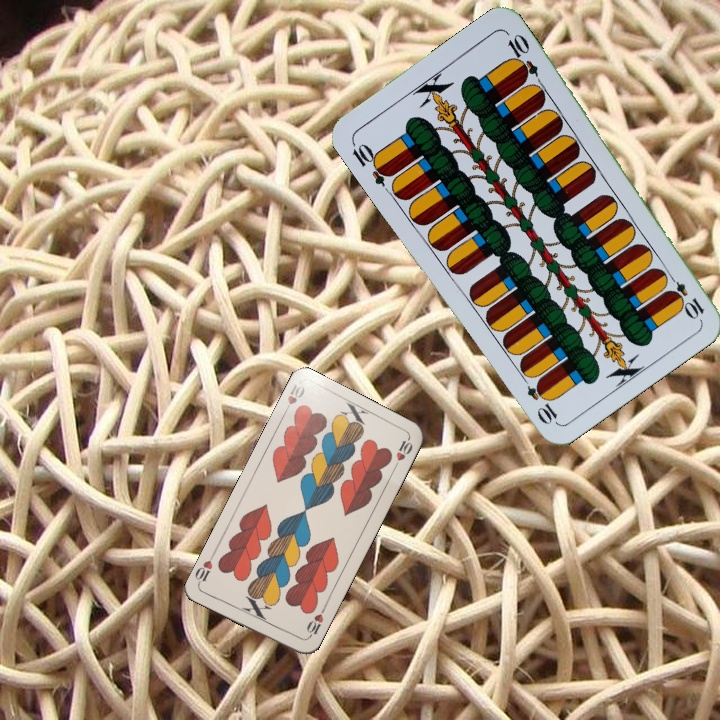E10: (347, 137, 395, 189), (662, 269, 707, 321)
H10: (279, 380, 307, 417), (302, 604, 328, 642)
